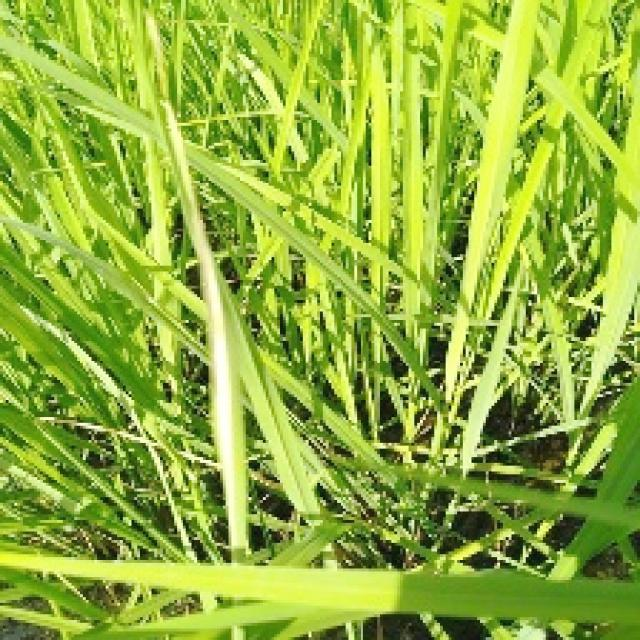health: (5, 0, 640, 400)
